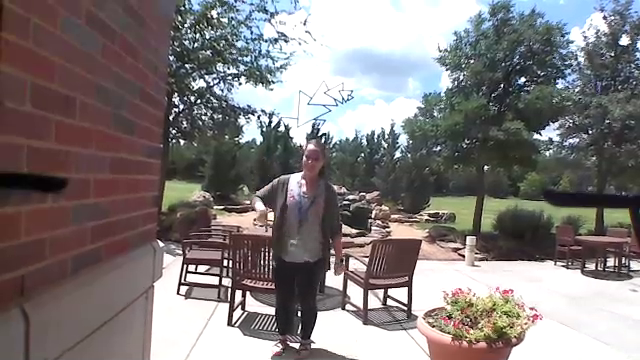down: (253, 202, 271, 234)
